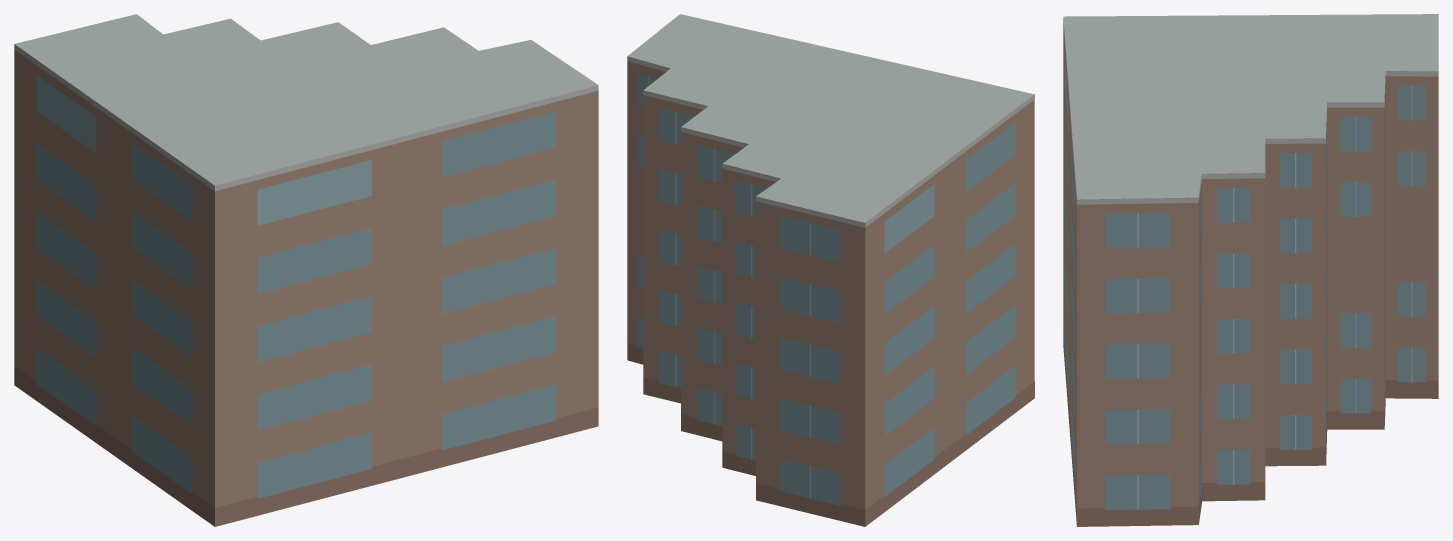
Rendered from survey-upis-32780365.glb.
3 views of the same model, side by side, from view 1: azimuth 30°, elevation 25°; view 2: azimuth 150°, elevation 25°; view 3: azimuth 270°, elevation 25° (orthographic). The views are drawn at different scales.
Visible parts, largest first — view 1: survey-upis-32780365.tmp; view 2: survey-upis-32780365.tmp; view 3: survey-upis-32780365.tmp.
Part boxes in pixels (x1,y1,x2,y2): survey-upis-32780365.tmp: (14, 14, 598, 526); survey-upis-32780365.tmp: (627, 14, 1034, 526); survey-upis-32780365.tmp: (1063, 14, 1438, 526).
Bounding box in the file's own units: 18.48 × 15.2 × 15.81.
